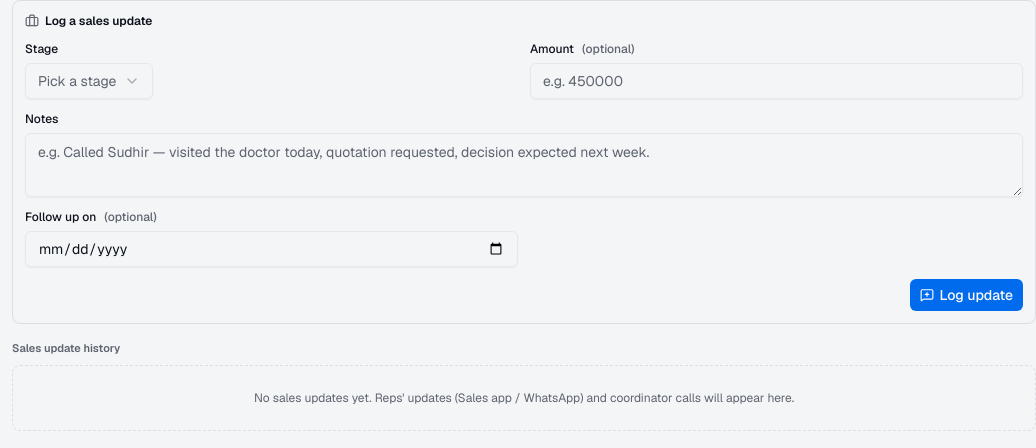
it: <SalesLogTab> › submits the note via the mutation and clears the field
Type "Visited the doctor today" into the text box with placeholder "Called Sudhir".
click(524, 165); type("Visited the doctor today")  # box [25, 133, 1023, 197]
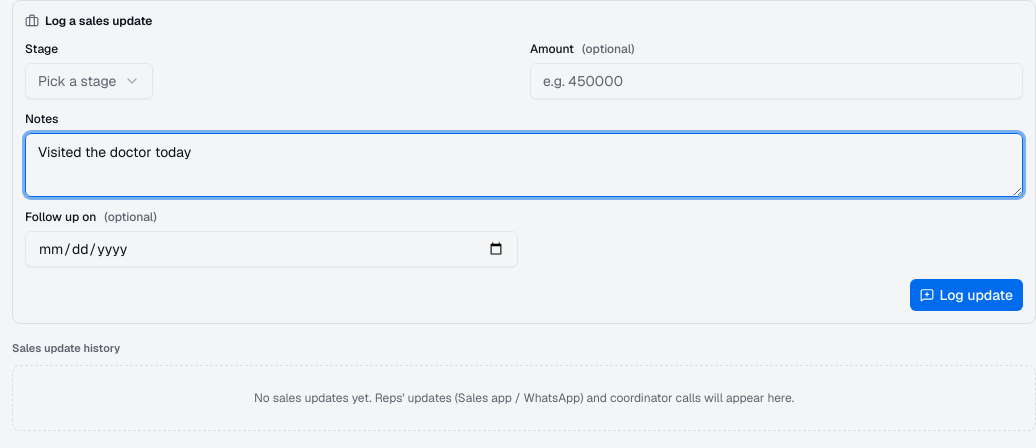
Click the button "Log update".
click(966, 295)  # box [910, 279, 1023, 311]
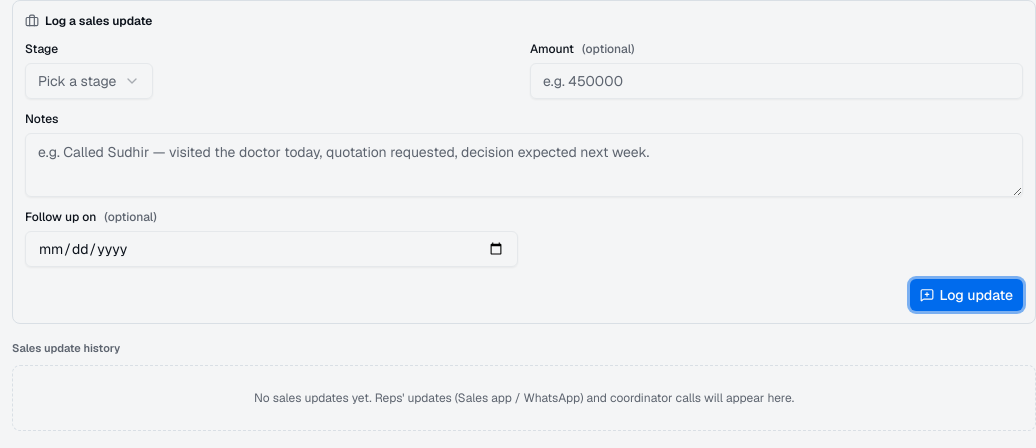
expect the text box with placeholder "Called Sudhir" is empty: met, box [25, 133, 1023, 197]
